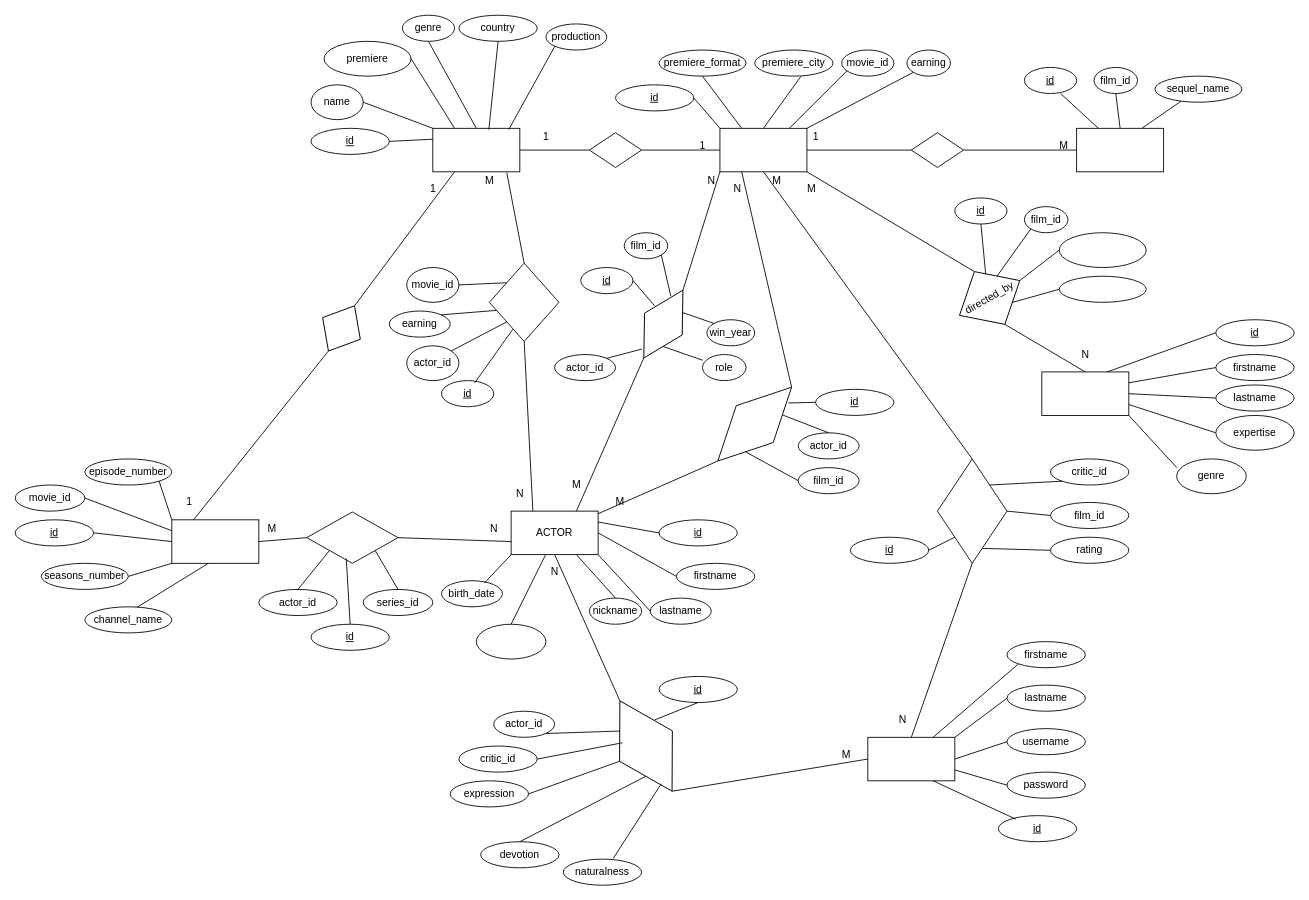
Image size: 1309x900. Some labels were removed from this diagram. The shapes that lost their labels are listed below. From the top down, each one's centre as x and y in pixels, then its label:
At (476,149): "MOVIE".
At (763,149): "FILMS".
At (1120,149): "SEQUEL".
At (1102,250): "director_id".
At (524,301): "performed_by".
At (1102,288): "salary".
At (663,323): "oscar".
At (1085,393): "DIRECTOR".
At (754,424): "actor_film".
At (972,510): "critic_film".
At (215,541): "TV_SERIES".
At (352,537): "actor_series".
At (510,641): "agent_code".
At (645,746): "actor_critic".
At (911,758): "CRITIC".
